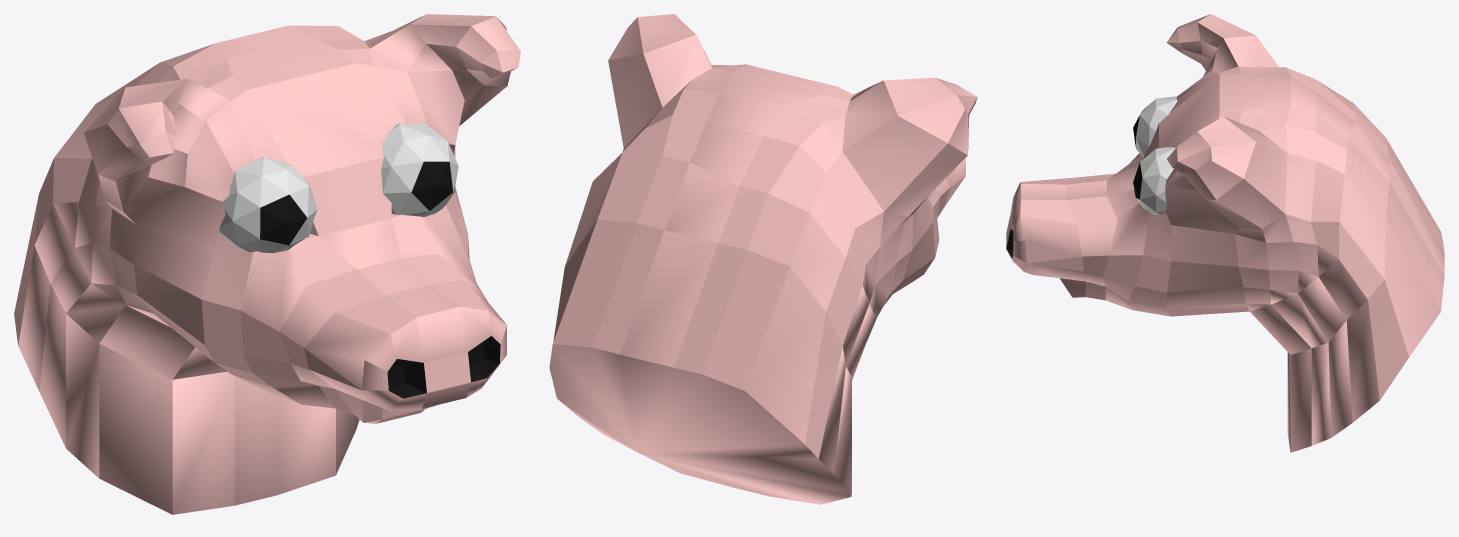
File: WhackHead.fbx
3 renders of one model, left to right at view 1: azimuth 30°, elevation 25°; view 2: azimuth 150°, elevation 25°; view 3: azimuth 270°, elevation 25°, orthographic. The views are drawn at different scales.
Parts seen in each view (by area): view 1: Body, Icosphere; view 2: Body; view 3: Body, Icosphere.
Part boxes in pixels (box(x1,y1,x2,y2)): Body: box(14, 14, 520, 514); Icosphere: box(219, 123, 458, 253); Body: box(549, 14, 977, 504); Body: box(1006, 14, 1444, 452); Icosphere: box(1133, 96, 1177, 214).
Bounding box in the file's own units: 264 × 335 × 337.
